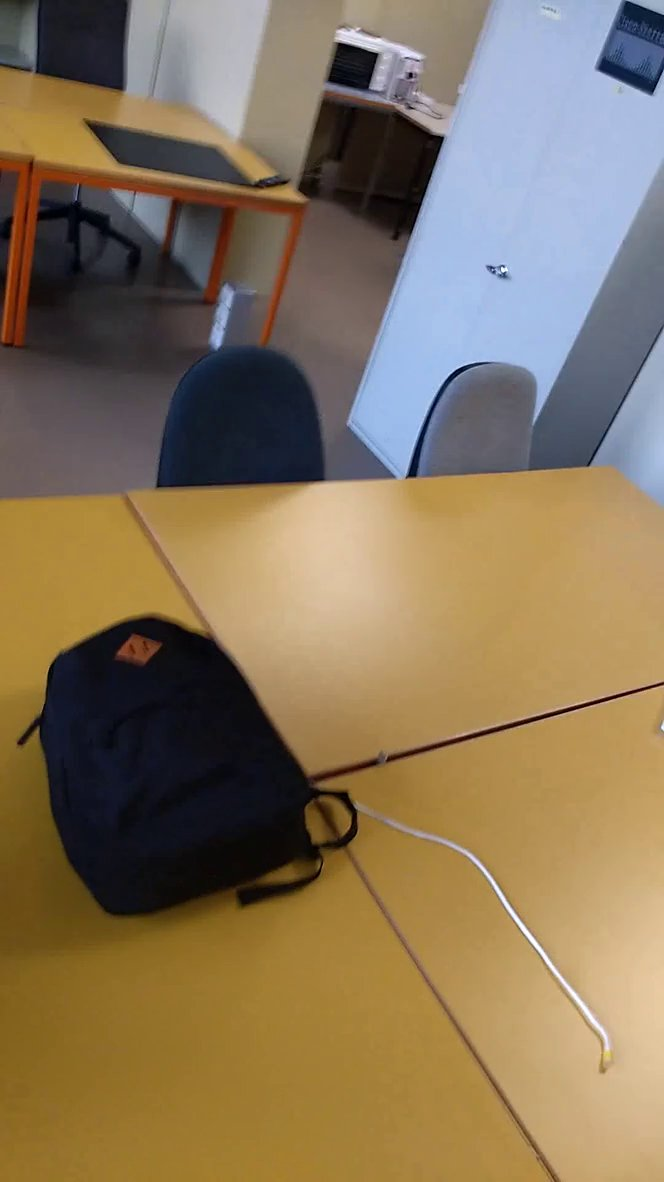bag: (9, 608, 384, 920)
chair: (142, 326, 343, 508), (405, 335, 546, 490)
